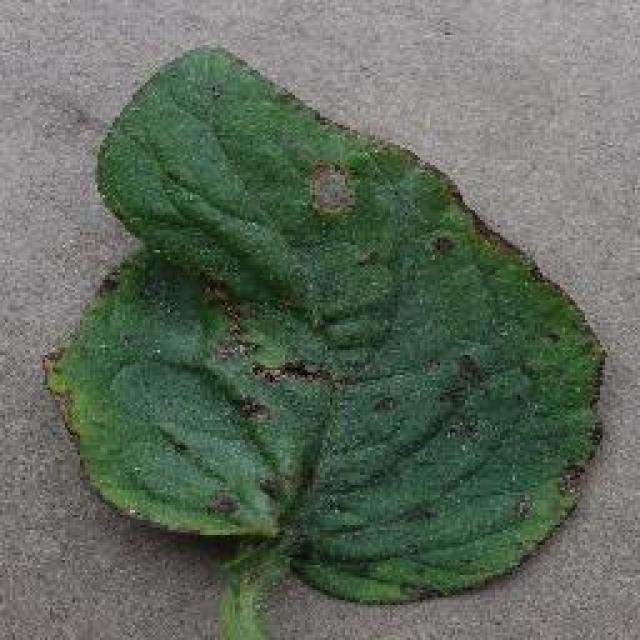Tomato bacterial spot leaf: (69, 51, 601, 606)
